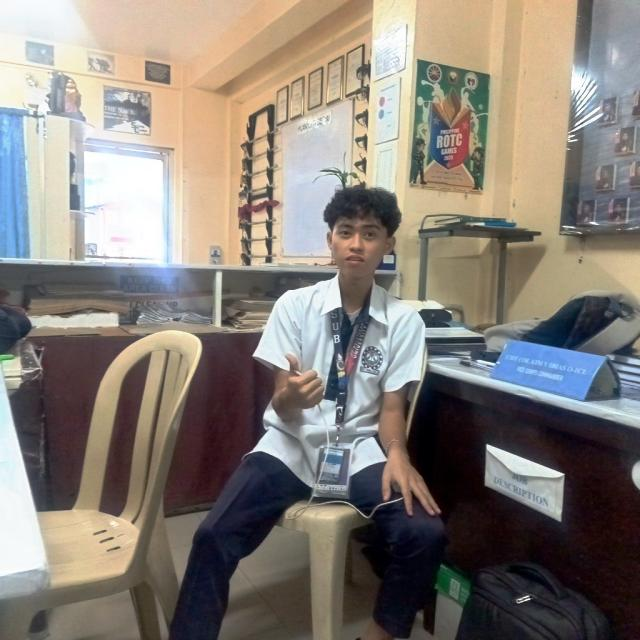thumbs_up: (379, 456, 443, 521), (277, 351, 327, 414)
